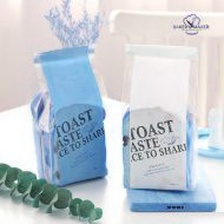snack: (113, 39, 206, 196), (23, 39, 111, 190)
